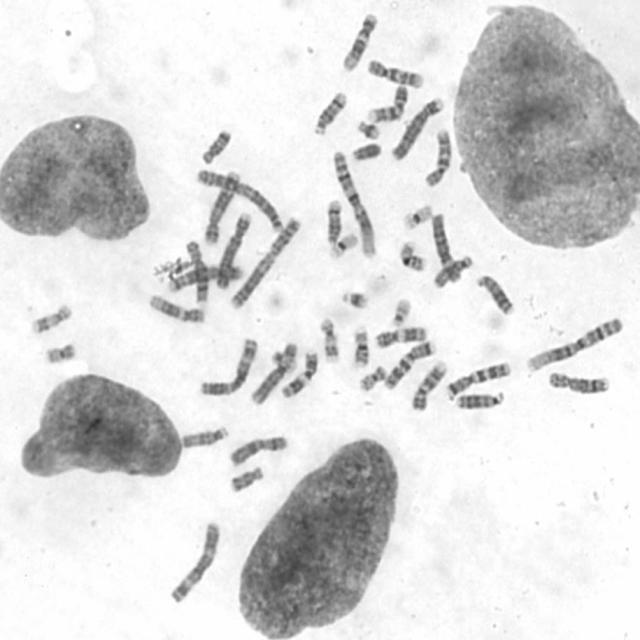A1: (525, 317, 624, 374), (330, 152, 377, 260)
A2: (228, 217, 301, 310), (194, 168, 284, 234)
A3: (169, 520, 220, 606), (198, 336, 260, 398)
B4: (388, 96, 444, 162), (214, 210, 253, 289)
B5: (202, 168, 241, 244), (167, 265, 244, 293)
C10: (366, 59, 426, 90), (421, 128, 451, 190)
C11: (280, 350, 320, 398), (373, 326, 428, 350)
C12: (340, 11, 380, 73), (146, 295, 206, 325)
C6: (250, 341, 296, 406), (428, 213, 463, 285)
C7: (382, 340, 437, 392), (446, 362, 510, 399)
C8: (547, 369, 612, 396), (182, 242, 210, 304)
C9: (410, 360, 448, 412), (365, 85, 410, 124)
D13: (476, 272, 516, 317), (455, 390, 505, 410)
D14: (310, 91, 351, 137), (326, 198, 342, 252)
D15: (430, 255, 474, 290), (180, 426, 230, 450)
E16: (398, 241, 428, 274), (350, 323, 370, 368)
E17: (30, 302, 71, 334), (318, 317, 339, 364)
E18: (225, 465, 267, 494), (201, 127, 232, 164)
F19: (401, 205, 436, 232), (330, 231, 358, 262)
F20: (44, 340, 78, 364), (359, 364, 387, 392)
G21: (336, 288, 369, 312), (356, 118, 381, 141)
G22: (268, 350, 300, 374), (390, 297, 412, 328)
X: (227, 434, 290, 468)
Y: (351, 142, 384, 162)
